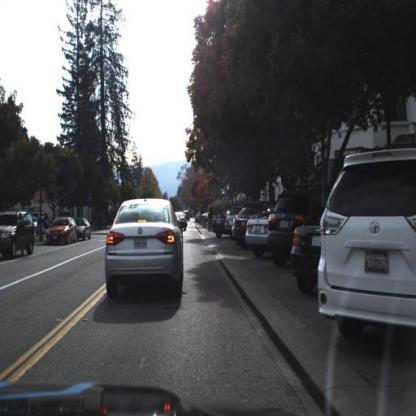car: (312, 140, 416, 352), (316, 149, 416, 346), (106, 199, 184, 302), (265, 182, 308, 281), (1, 205, 40, 266), (291, 221, 322, 296), (245, 205, 276, 264), (2, 210, 36, 257), (269, 192, 290, 264), (45, 215, 80, 250), (246, 210, 268, 256), (48, 218, 78, 245), (78, 218, 92, 240)
pedestrian: (17, 211, 27, 257)
